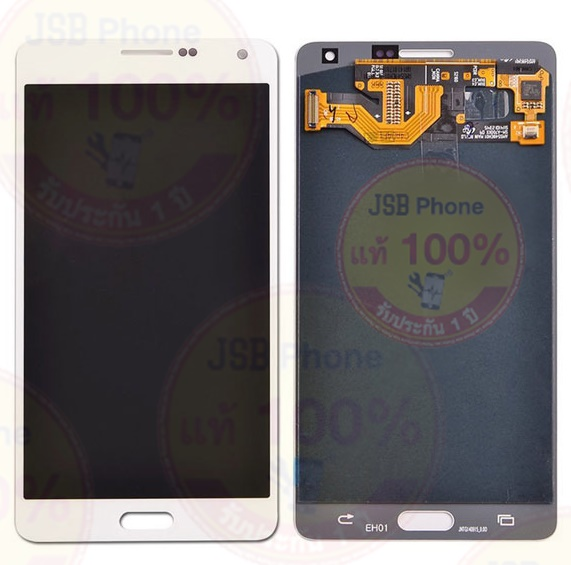Phone: (293, 40, 561, 543), (14, 36, 279, 543)
